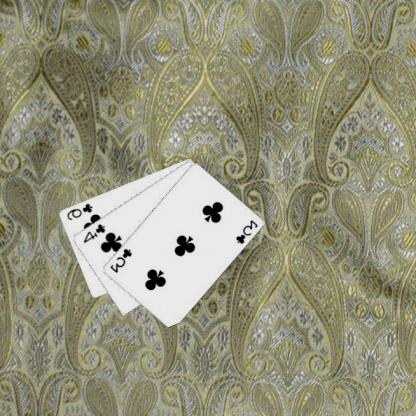3C: (109, 246, 135, 274), (235, 217, 261, 245)
4C: (82, 221, 108, 244)
6C: (66, 200, 96, 221)
